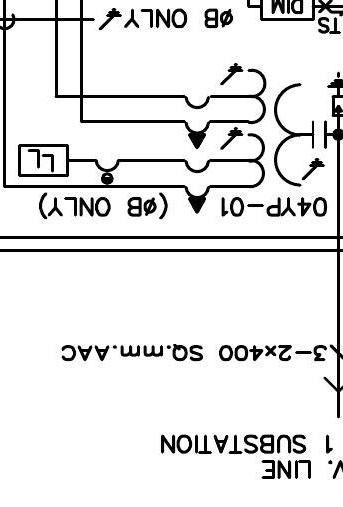115_cvt_1p: (182, 62, 328, 214)
LL: (18, 143, 69, 177)
